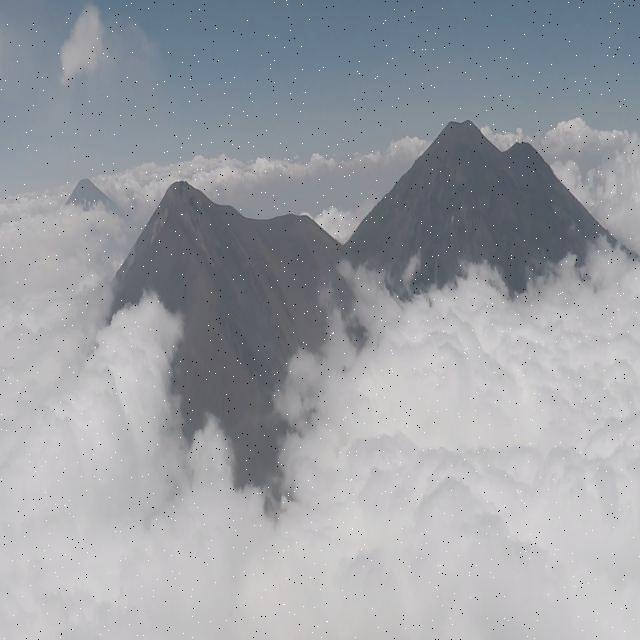Plume: (57, 7, 111, 84)
Summit: (143, 177, 244, 241)
